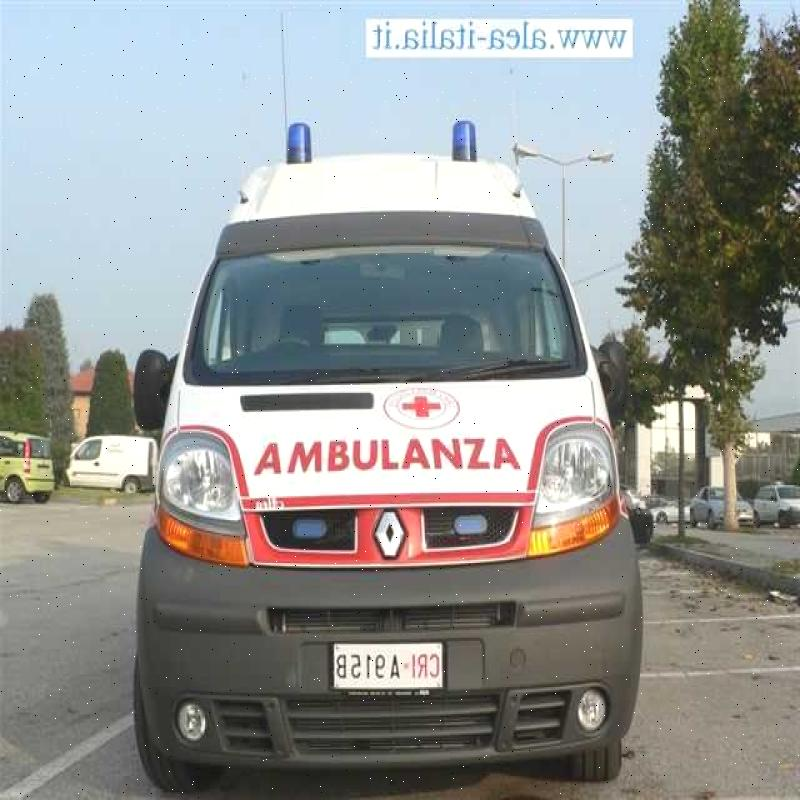AmbulanceSiren: (426, 110, 487, 178), (284, 119, 319, 172)
